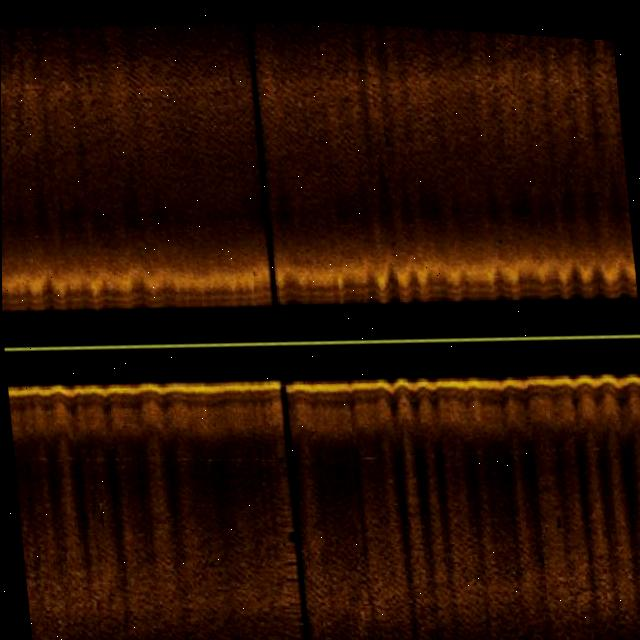mine: (91, 495, 106, 525)
